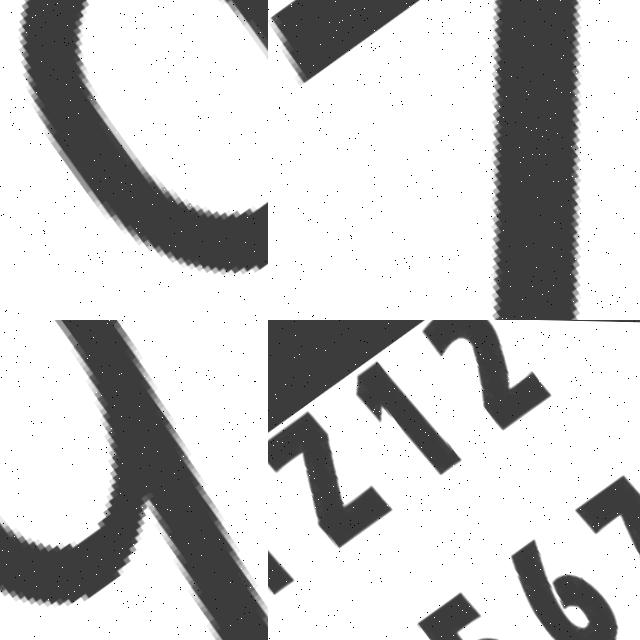1: (334, 343, 477, 501)
2: (403, 320, 570, 455)
5: (395, 562, 571, 640)
6: (472, 499, 640, 640)
7: (560, 444, 640, 629)
G: (0, 0, 268, 320)
Q: (0, 320, 268, 640)
Z: (268, 0, 640, 320)
